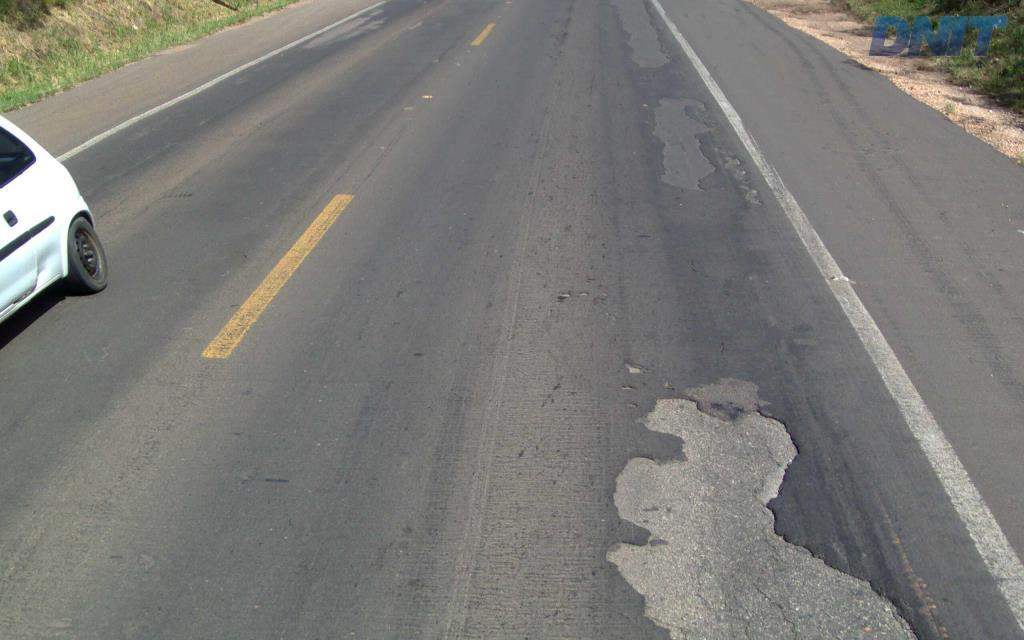pothole: (591, 376, 951, 638), (642, 88, 727, 203), (600, 0, 669, 74)
